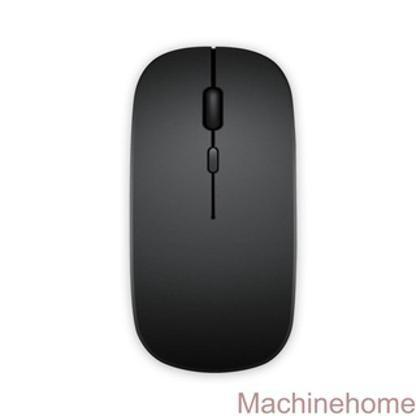not trash: (124, 41, 312, 379)
